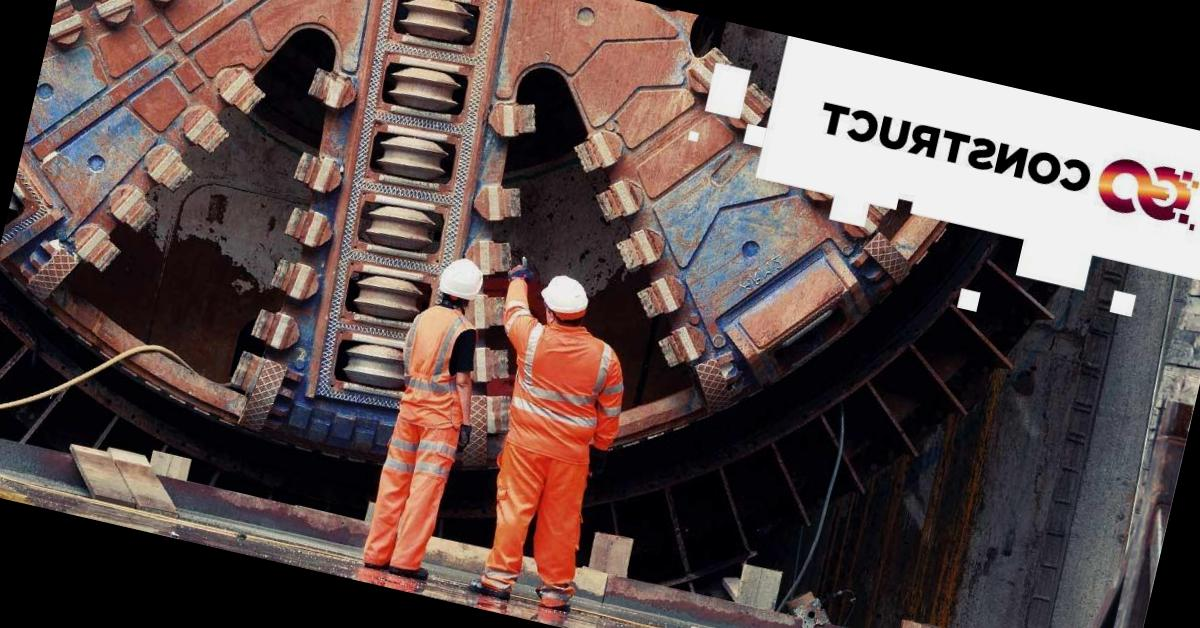helmet: (534, 264, 604, 332), (428, 252, 492, 318)
person: (442, 254, 647, 628), (346, 245, 513, 583)
